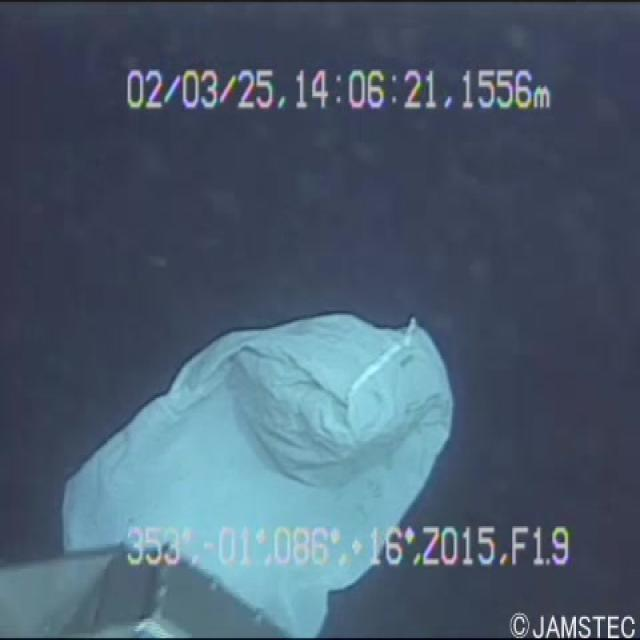plastic: (45, 256, 455, 638)
